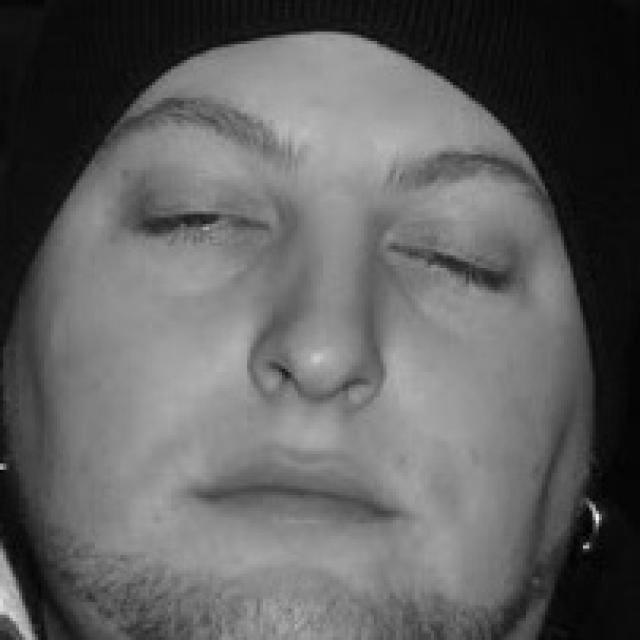real: (7, 34, 587, 640), (114, 169, 536, 311)
